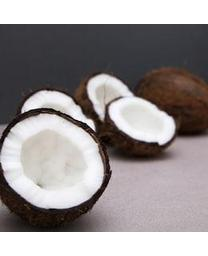coconut: (1, 108, 112, 226), (136, 66, 207, 138), (106, 96, 177, 157)
